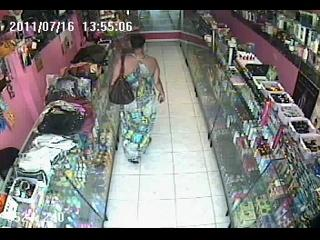Normal: (110, 34, 166, 165), (108, 54, 136, 105)
